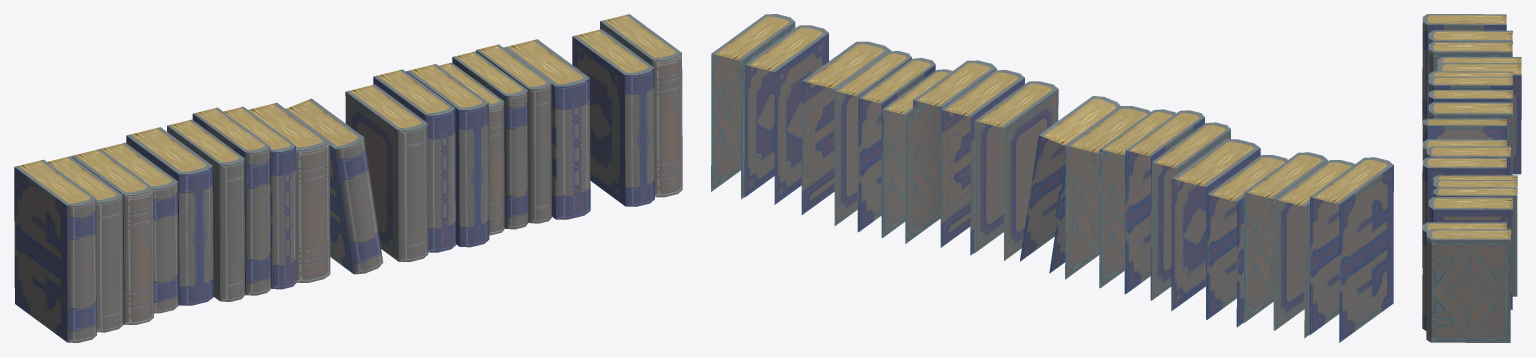
File: BookGroup_Large_1.fbx
The picture shows the model from 3 angles, left to right: view 1: azimuth 30°, elevation 25°; view 2: azimuth 150°, elevation 25°; view 3: azimuth 270°, elevation 25°; orthographic projection. The views are drawn at different scales.
Parts seen in each view (by area): view 1: BookGroup_Large_1; view 2: BookGroup_Large_1; view 3: BookGroup_Large_1.
Part boxes in pixels (x1,y1,x2,y2): BookGroup_Large_1: (14,14,682,342); BookGroup_Large_1: (711,14,1393,342); BookGroup_Large_1: (1422,14,1521,342).
Bounding box in the file's own units: 134 × 29.83 × 24.75.
